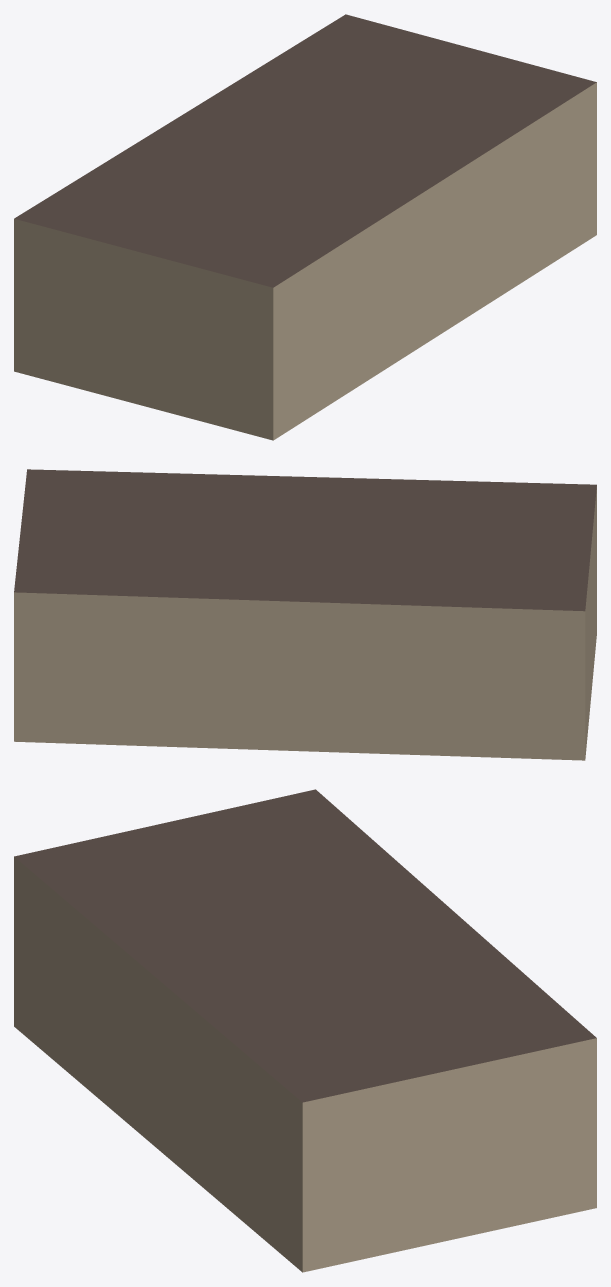
3 renders of one model, top to bottom at view 1: azimuth 30°, elevation 25°; view 2: azimuth 150°, elevation 25°; view 3: azimuth 270°, elevation 25°, orthographic. The views are drawn at different scales.
Visible parts, largest first — view 1: HP-w282881400; view 2: HP-w282881400; view 3: HP-w282881400.
Boxes of the visible parts, x1,y1,x2,y2 form: HP-w282881400: [14, 14, 596, 440]; HP-w282881400: [14, 469, 596, 760]; HP-w282881400: [14, 789, 596, 1272].
Size of the model in its own units: 35.56 by 9 by 27.97.
